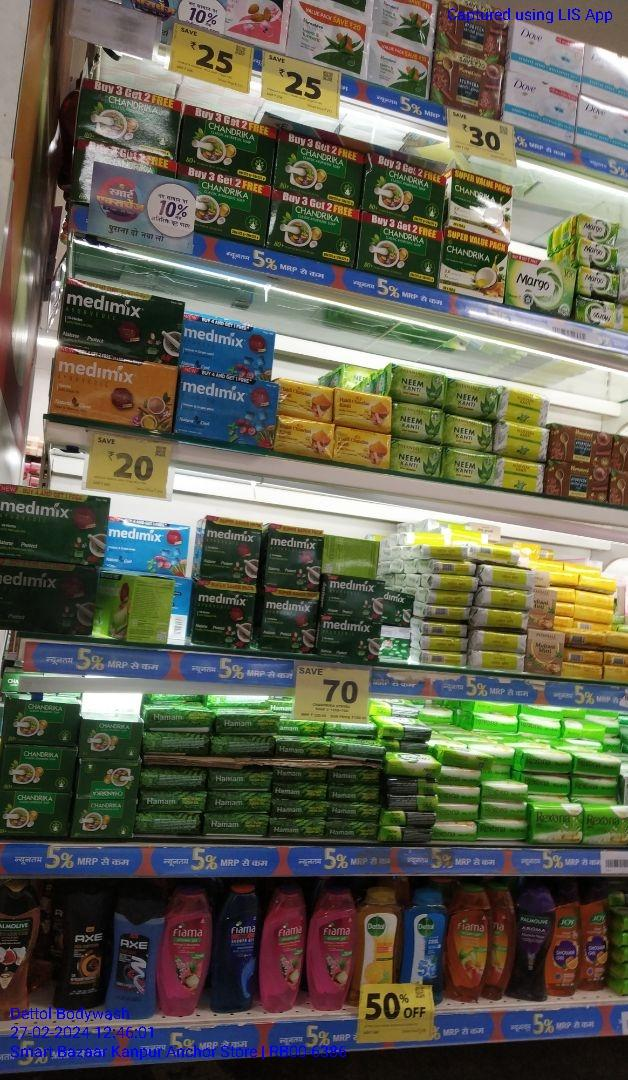Dettol_Bodywash_Cool: (403, 885, 444, 999)
Dettol_Bodywash_Refresh: (357, 884, 400, 1000)
Fiama_Shower_Gel_Patchouli_and_Macadamia_250ML: (163, 886, 212, 1020), (309, 886, 353, 1012), (263, 885, 304, 1016)
Fiama_Shower_Gel_Peach_and_Avocado_250ML: (450, 886, 487, 1006)
Joy_Shower_Gel_Mandarin_and_Lemongrass_250ML: (552, 883, 581, 996), (583, 881, 612, 992)
Palmolive_Aroma_Relax_250ML: (514, 880, 550, 1004)
Palmolive_Luminous_Oils_With_White_Orchid_Shower_Gel_250ML: (0, 879, 41, 1024)
